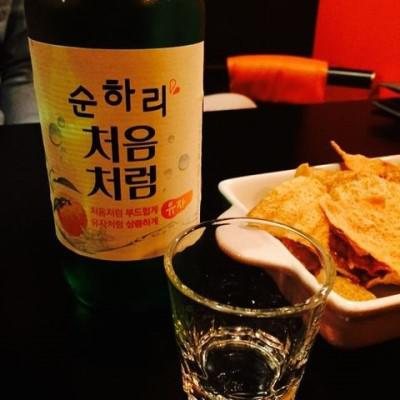soju: (12, 4, 206, 277)
